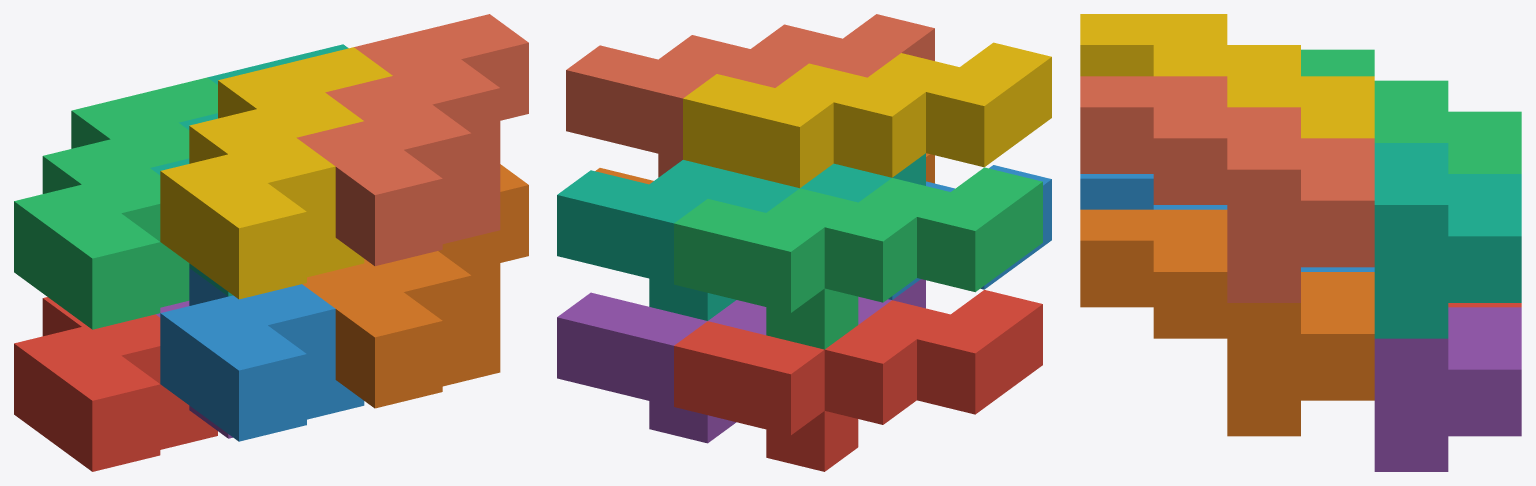
File: tiling.obj
3 renders of one model, left to right at view 1: azimuth 30°, elevation 25°; view 2: azimuth 150°, elevation 25°; view 3: azimuth 270°, elevation 25°, orthographic. The views are drawn at different scales.
Visible parts, largest first — view 1: copy_1_domain_8, copy_1_domain_4, copy_1_domain_3, copy_1_domain_6, copy_1_domain_2, copy_1_domain_1, copy_1_domain_7; view 2: copy_1_domain_3, copy_1_domain_1, copy_1_domain_4, copy_1_domain_8, copy_1_domain_7, copy_1_domain_5, copy_1_domain_2, copy_1_domain_6; view 3: copy_1_domain_8, copy_1_domain_6, copy_1_domain_7, copy_1_domain_5, copy_1_domain_4, copy_1_domain_3, copy_1_domain_2.
Part boxes in pixels (x1,y1,x2,y2): copy_1_domain_8: (296,14,528,266); copy_1_domain_4: (160,47,392,299); copy_1_domain_3: (14,77,217,329); copy_1_domain_6: (302,164,528,408); copy_1_domain_2: (160,268,364,441); copy_1_domain_1: (14,297,217,471); copy_1_domain_7: (150,44,348,296); copy_1_domain_3: (674,167,1042,349); copy_1_domain_1: (674,290,1042,471); copy_1_domain_4: (683,42,1051,188); copy_1_domain_8: (566,14,934,177); copy_1_domain_7: (557,153,925,320); copy_1_domain_5: (557,279,925,443); copy_1_domain_2: (888,165,1051,299); copy_1_domain_6: (595,153,934,184); copy_1_domain_8: (1080,76,1374,302); copy_1_domain_6: (1080,209,1374,436); copy_1_domain_7: (1374,143,1521,338); copy_1_domain_5: (1374,307,1521,471); copy_1_domain_4: (1080,14,1374,138); copy_1_domain_3: (1301,49,1521,173); copy_1_domain_2: (1080,174,1374,271).
Size of the model in its own units: 7 by 5 by 6.
